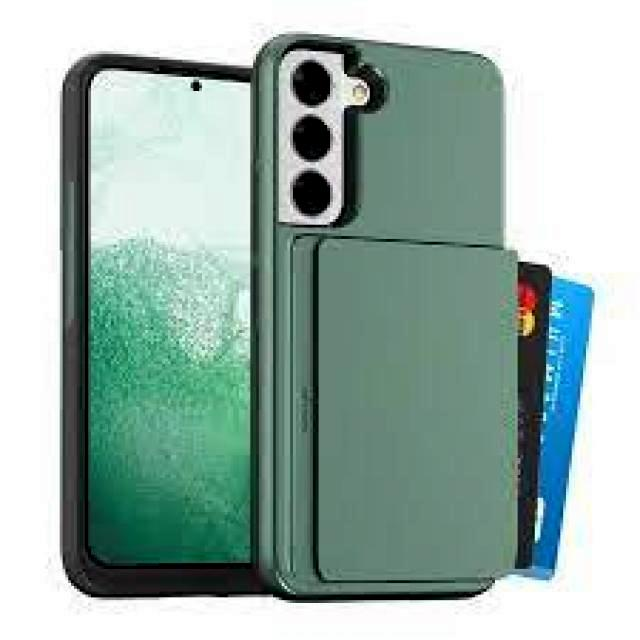lens_back: (285, 54, 336, 116), (290, 112, 334, 166), (289, 168, 332, 218)
phone: (51, 48, 258, 606)
